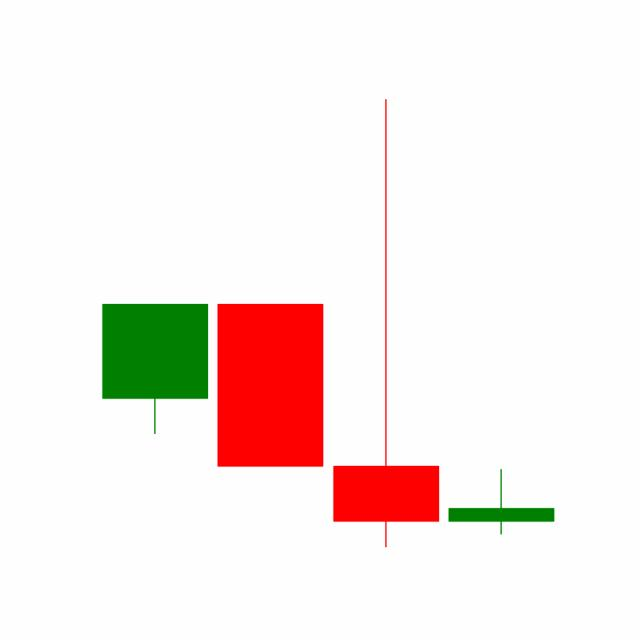Gravestone Doji: (443, 468, 559, 536)
